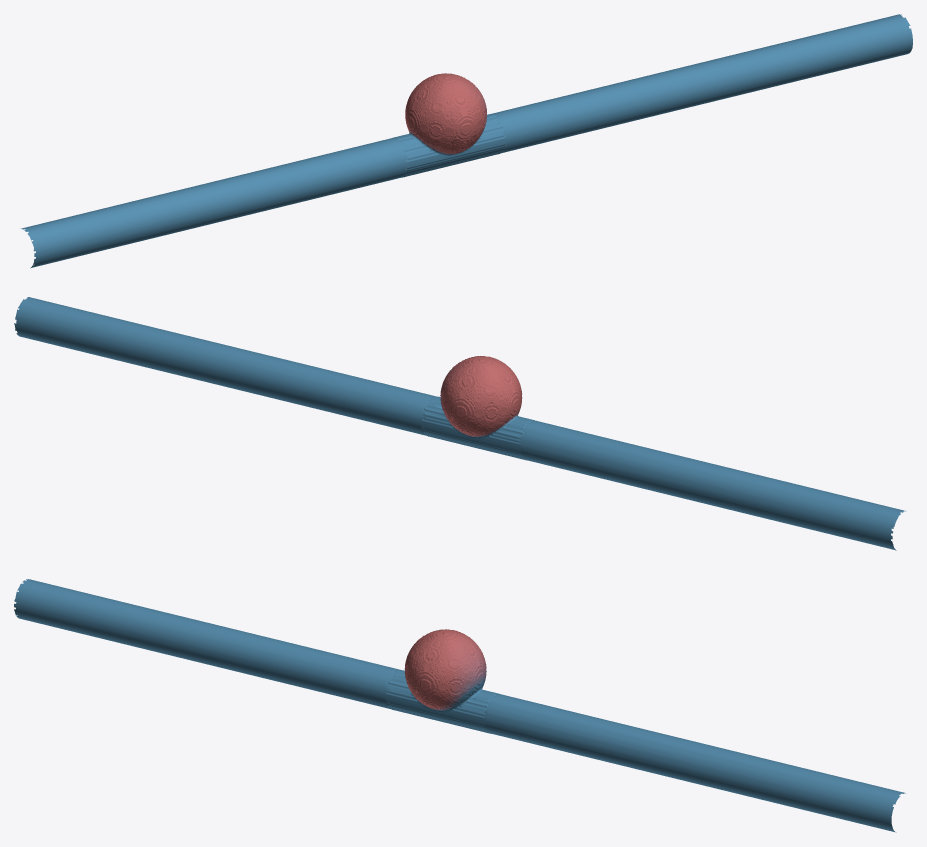
3 views of the same model, one above another, from view 1: azimuth 30°, elevation 25°; view 2: azimuth 150°, elevation 25°; view 3: azimuth 330°, elevation 25° (orthographic).
Visible parts, largest first — view 1: geometry_0; view 2: geometry_0; view 3: geometry_0.
Part boxes in pixels (x1,y1,x2,y2): geometry_0: (20, 14, 912, 268); geometry_0: (14, 297, 906, 550); geometry_0: (14, 579, 905, 832).
Bounding box in the file's own units: 1.92 × 0.1825 × 0.1541.
